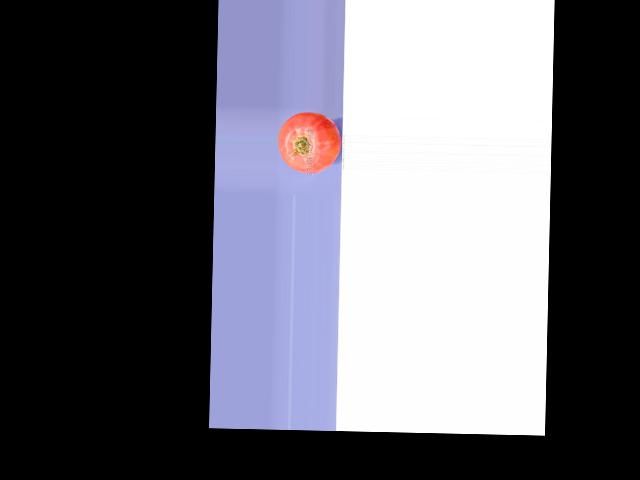tomato: (277, 111, 340, 173)
